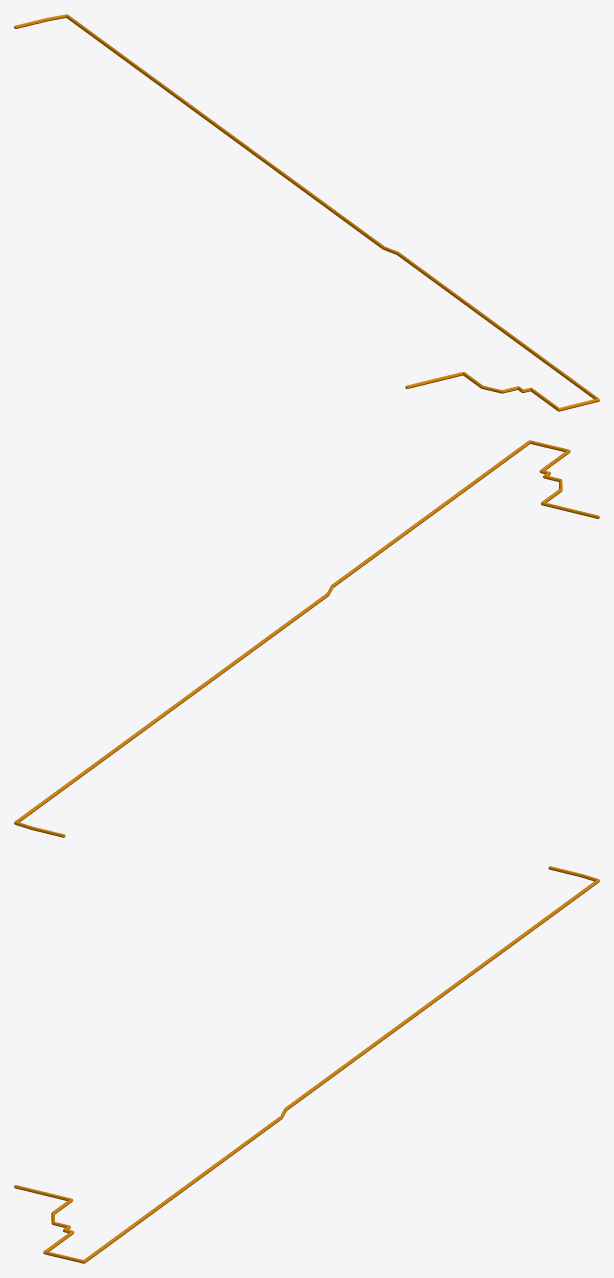
3 views of the same model, one above another, from view 1: azimuth 30°, elevation 25°; view 2: azimuth 150°, elevation 25°; view 3: azimuth 330°, elevation 25° (orthographic).
Size of the model in its own units: 827 by 20 by 5686.
